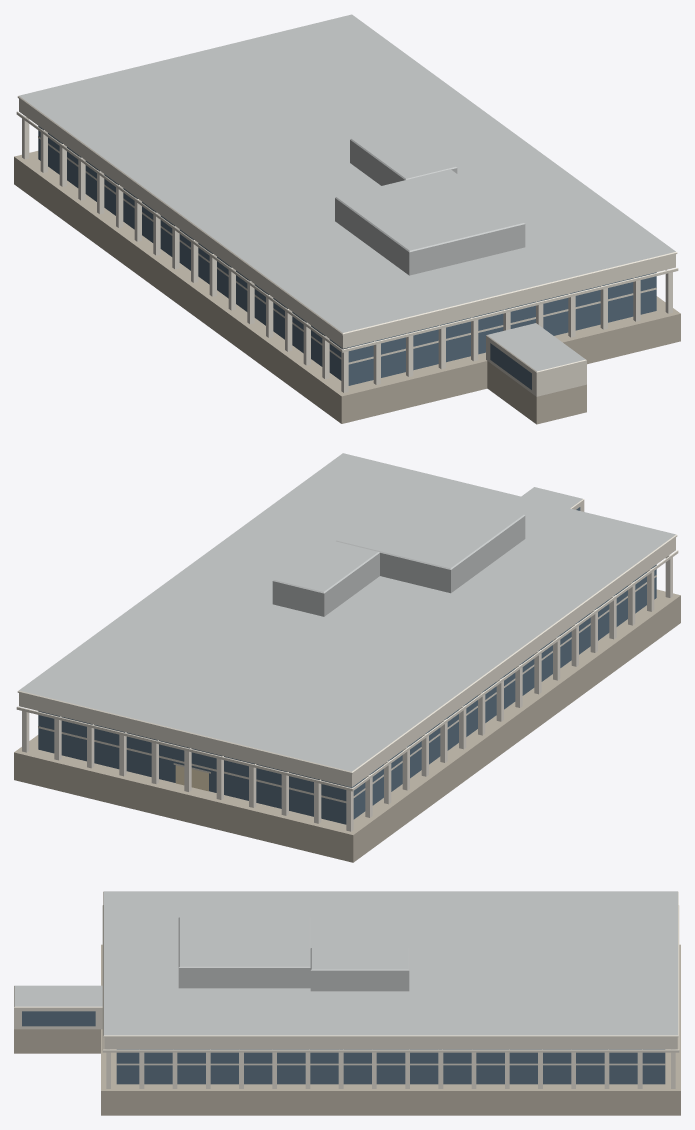
Rendered from cola-thomas-cooper-library.glb.
The picture shows the model from 3 angles, top to bottom: view 1: azimuth 30°, elevation 25°; view 2: azimuth 150°, elevation 25°; view 3: azimuth 270°, elevation 25°; orthographic projection. The views are drawn at different scales.
Visible parts, largest first — view 1: Thomas Cooper Library; view 2: Thomas Cooper Library; view 3: Thomas Cooper Library.
Part boxes in pixels (<box>): Thomas Cooper Library: <box>14,14,680,424</box>; Thomas Cooper Library: <box>14,453,680,862</box>; Thomas Cooper Library: <box>14,891,680,1115</box>.
Size of the model in its own units: 52.6 by 16.8 by 101.
